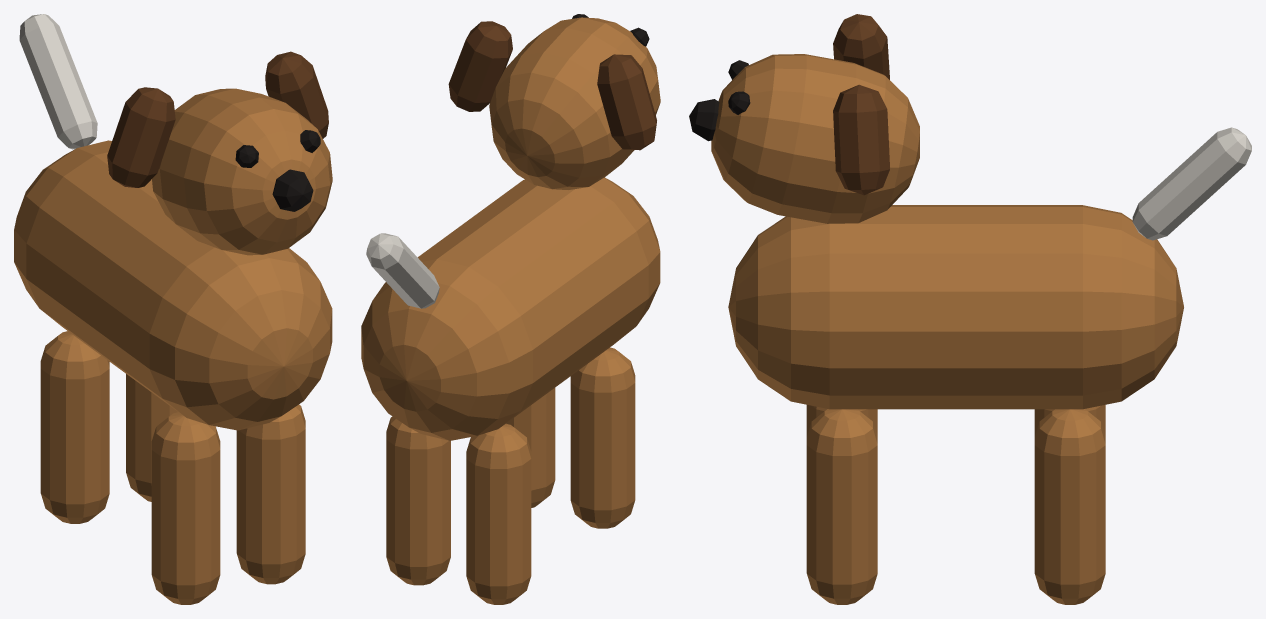
Rendered from dog.glb.
3 views of the same model, side by side, from view 1: azimuth 30°, elevation 25°; view 2: azimuth 150°, elevation 25°; view 3: azimuth 270°, elevation 25° (orthographic). The views are drawn at different scales.
Visible parts, largest first — view 1: body, head, front_right_leg, back_right_leg, front_left_leg, tail, right_ear, back_left_leg, left_ear, nose, right_eye; view 2: body, head, back_right_leg, front_right_leg, back_left_leg, right_ear, left_ear, tail, front_left_leg; view 3: body, head, front_left_leg, back_left_leg, tail, left_ear, right_ear, nose.
Boxes of the visible parts, x1,y1,x2,y2 form: body: (14,140,332,430); head: (152,88,332,255); front_right_leg: (151,412,220,604); back_right_leg: (40,331,109,523); front_left_leg: (236,404,305,584); tail: (19,14,97,149); right_ear: (107,87,175,187); back_left_leg: (126,374,177,501); left_ear: (265,51,328,138); nose: (272,169,313,211); right_eye: (235,145,258,167); body: (361,177,660,440); head: (489,17,660,189); back_right_leg: (466,423,531,604); front_right_leg: (570,347,635,528); back_left_leg: (386,416,450,585); right_ear: (597,54,656,150); left_ear: (448,21,512,111); tail: (366,233,439,308); front_left_leg: (506,388,555,507); body: (728,205,1183,409); head: (711,54,919,223); front_left_leg: (806,409,877,604); back_left_leg: (1034,409,1105,604); tail: (1132,127,1251,240); left_ear: (833,84,889,195); right_ear: (833,14,889,79); nose: (689,99,719,141).
Bounding box in the file's own units: 0.5063 × 1.15 × 1.11.
